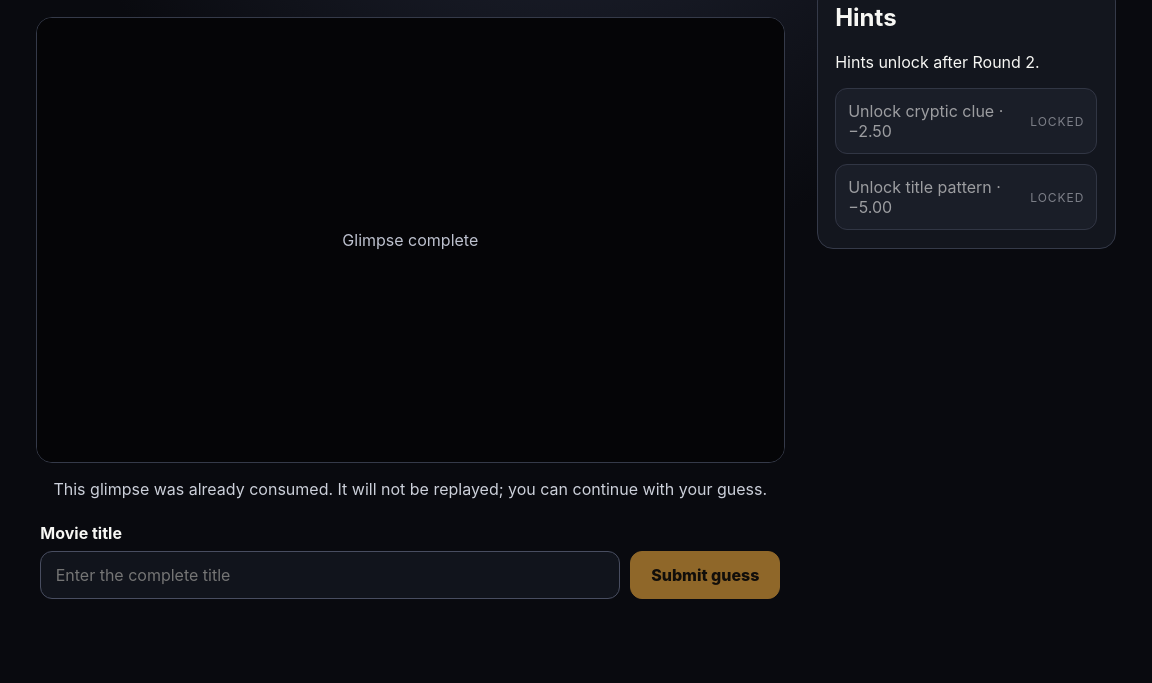
Test: player application › submits a guess once and advances after an incorrect answer
The image size is (1152, 683).
(page scrolled)
Type "Wrong movie" into the field labelled "Movie title" at x=330, y=574, box [40, 550, 620, 598]
Then press Enter
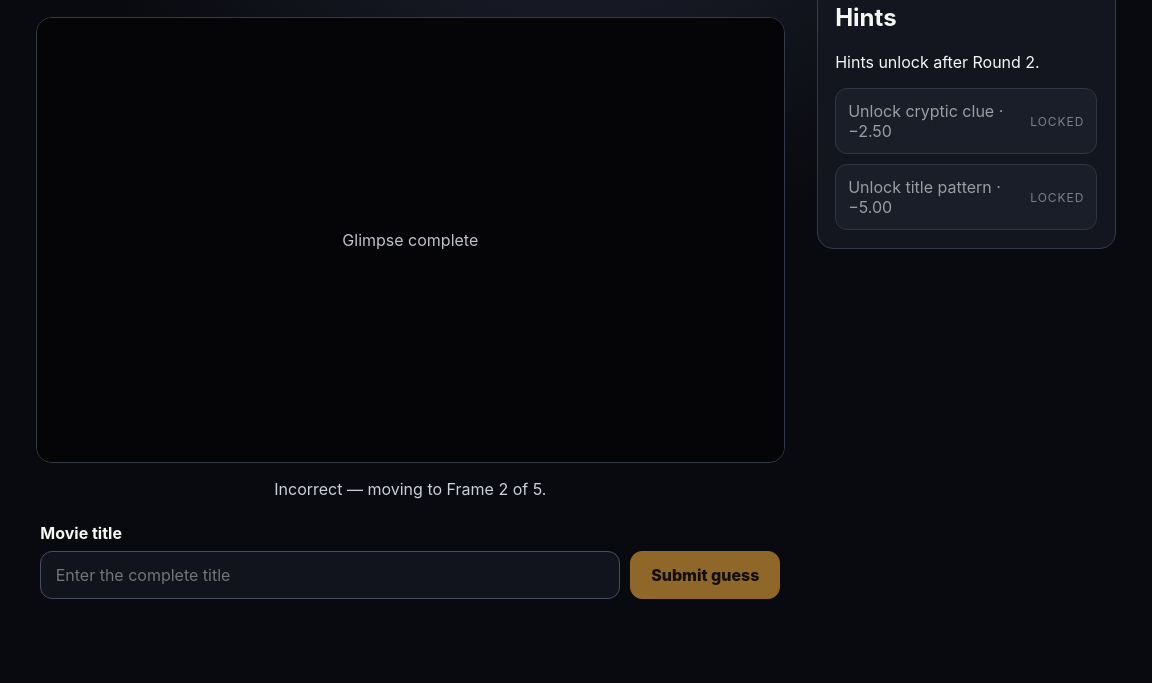
Expected: the text "Incorrect — moving to Frame 2 of 5." is shown, [274, 479, 546, 499]
